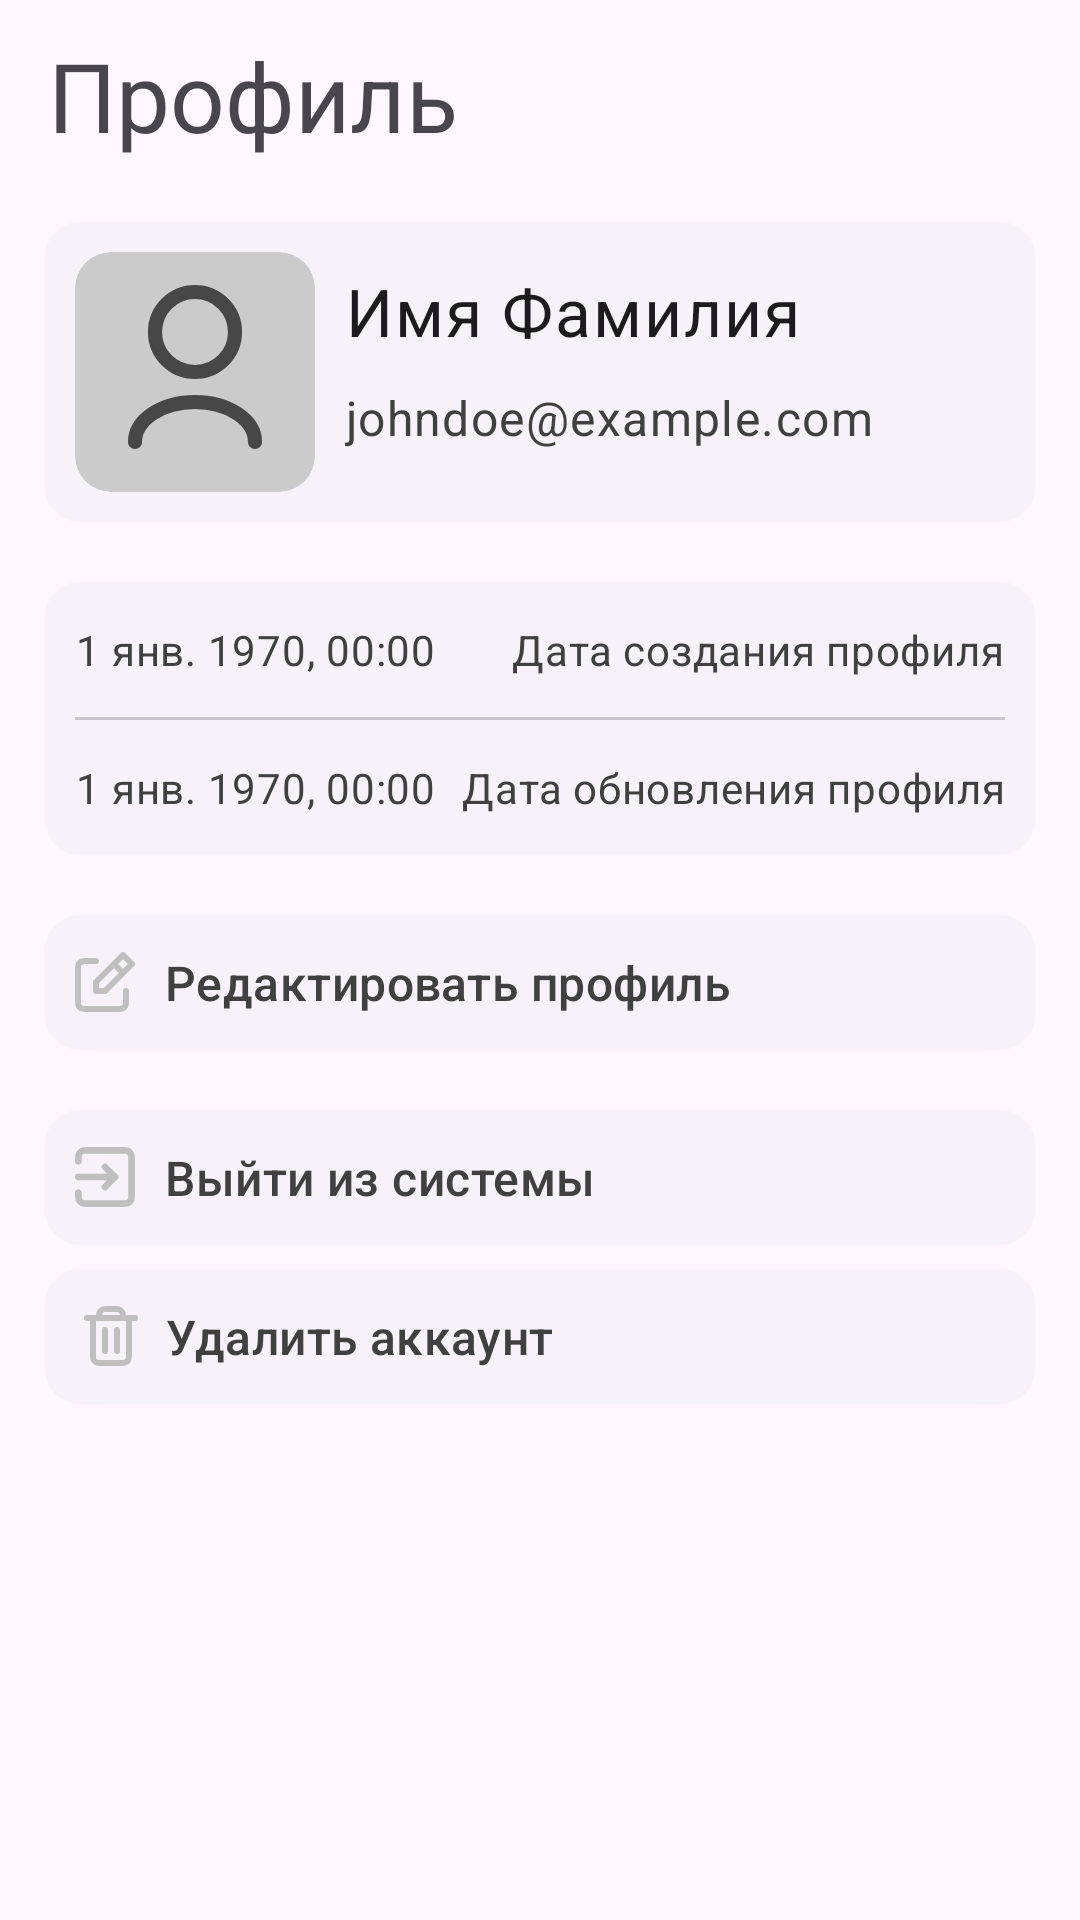

Named icons in this screenshot (1080 x 1920) and their bounding boxes, box=[x1, y1, x2, y2]:
delete: box=[84, 1306, 138, 1366]
edit: box=[75, 952, 135, 1012]
exit: box=[75, 1147, 135, 1207]
user: box=[75, 252, 315, 492]
